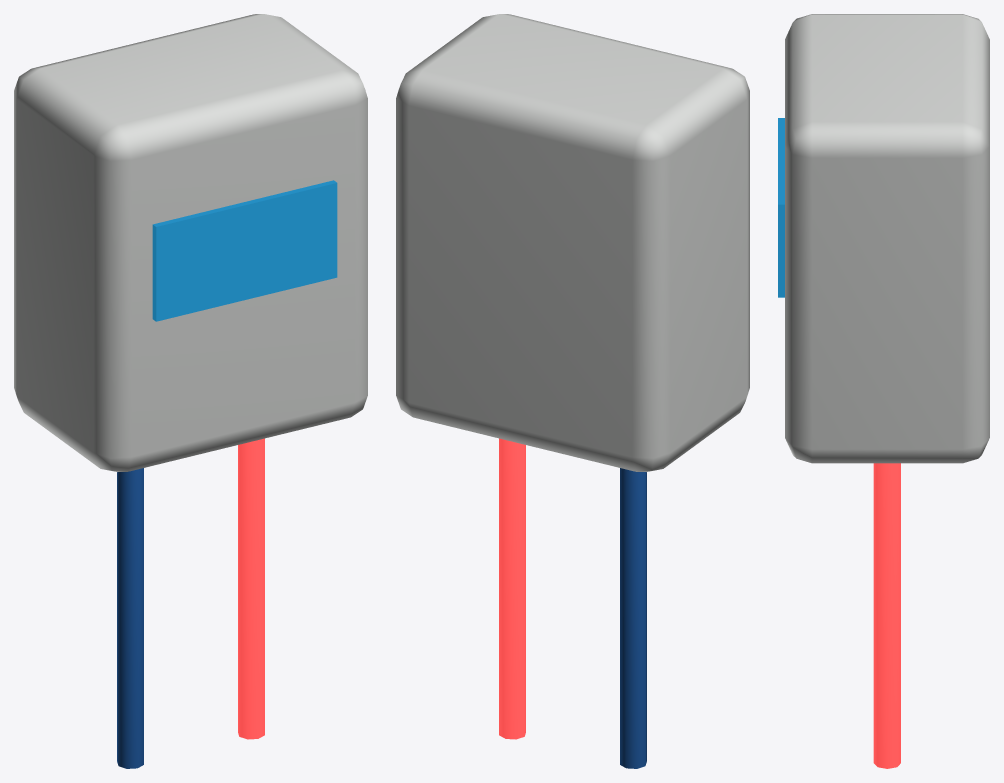
File: dev_airdp.glb
3 renders of one model, left to right at view 1: azimuth 30°, elevation 25°; view 2: azimuth 150°, elevation 25°; view 3: azimuth 270°, elevation 25°, orthographic.
Visible parts, largest first — view 1: Cube, Cube.001, Cylinder, Cylinder.001; view 2: Cube, Cylinder, Cylinder.001; view 3: Cube, Cylinder.001, Cube.001.
Boxes of the visible parts, x1,y1,x2,y2 form: Cube: (14, 14, 367, 471); Cube.001: (152, 180, 337, 321); Cylinder: (117, 468, 143, 768); Cylinder.001: (238, 438, 264, 739); Cube: (396, 14, 749, 471); Cylinder: (620, 468, 646, 768); Cylinder.001: (499, 438, 525, 739); Cube: (785, 14, 989, 463); Cylinder.001: (873, 463, 900, 768); Cube.001: (778, 118, 784, 297).
Bounding box in the file's own units: 0.09 × 0.215 × 0.062.
